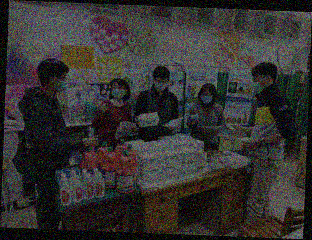with_mask: (54, 74, 68, 94), (110, 83, 126, 100), (153, 78, 169, 93), (251, 77, 264, 94), (199, 91, 213, 105)
